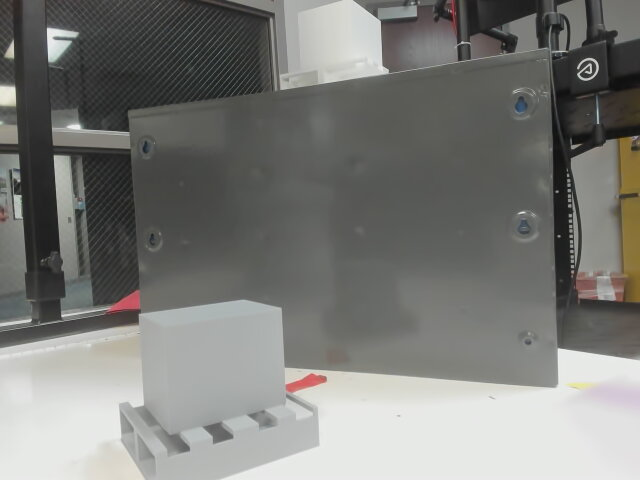grey pallet: (111, 288, 325, 480)
white pallet: (276, 0, 390, 95)
